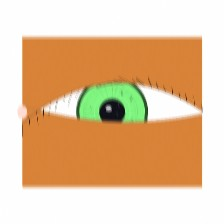pinguecula_lesion: (26, 94, 78, 135)
